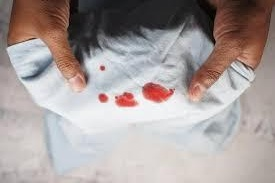blood: (144, 85, 172, 103), (116, 92, 137, 108), (98, 94, 108, 103), (98, 66, 105, 72)
